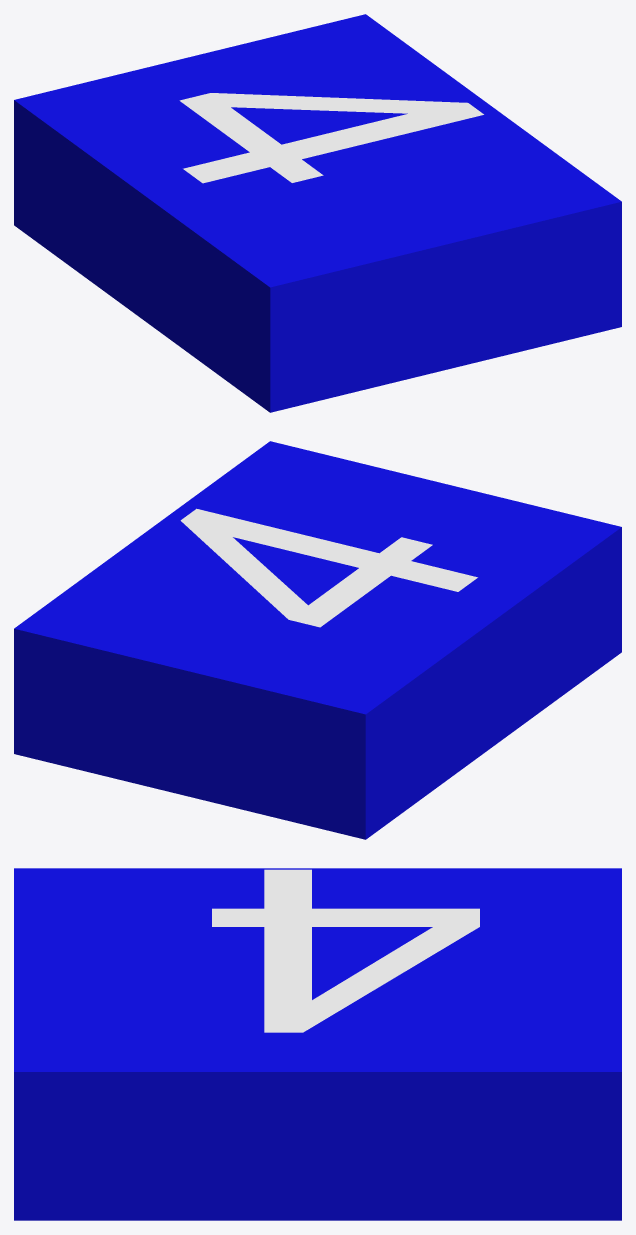
Rendered from number4.FBX.
The picture shows the model from 3 angles, top to bottom: view 1: azimuth 30°, elevation 25°; view 2: azimuth 150°, elevation 25°; view 3: azimuth 270°, elevation 25°; orthographic projection. The views are drawn at different scales.
Visible parts, largest first — view 1: Text001; view 2: Text001; view 3: Text001.
Boxes of the visible parts, left/top/right/bottom form: Text001: left=14, top=14, right=621, bottom=412; Text001: left=14, top=441, right=621, bottom=839; Text001: left=14, top=868, right=621, bottom=1220.
Bounding box in the file's own units: 18.63 × 7.23 × 23.5.
